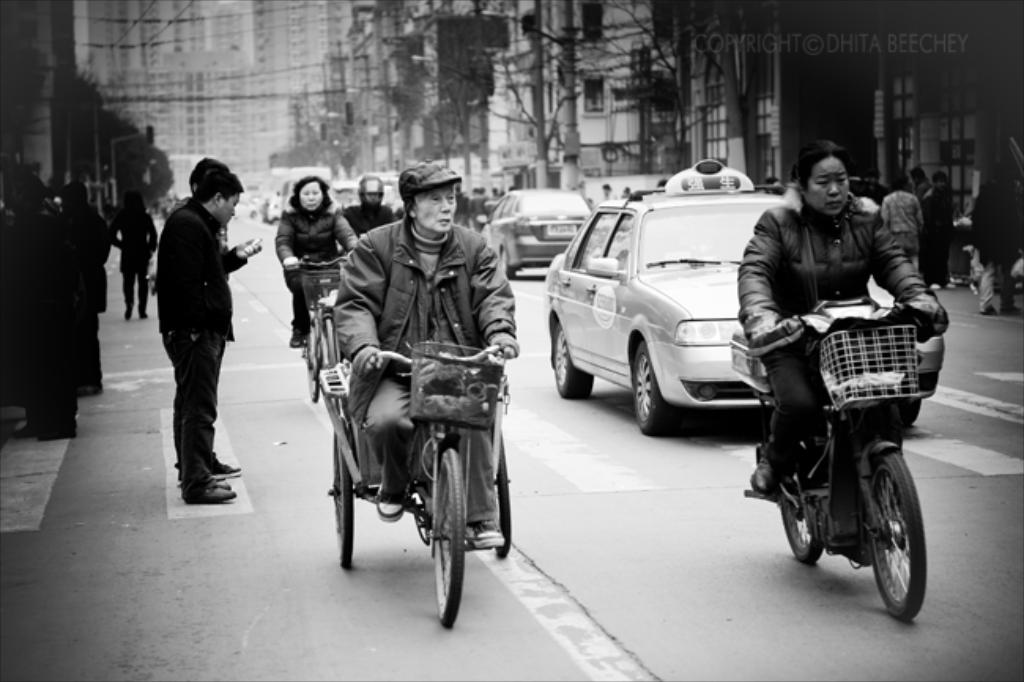Car: (541, 152, 946, 426), (478, 182, 590, 272)
